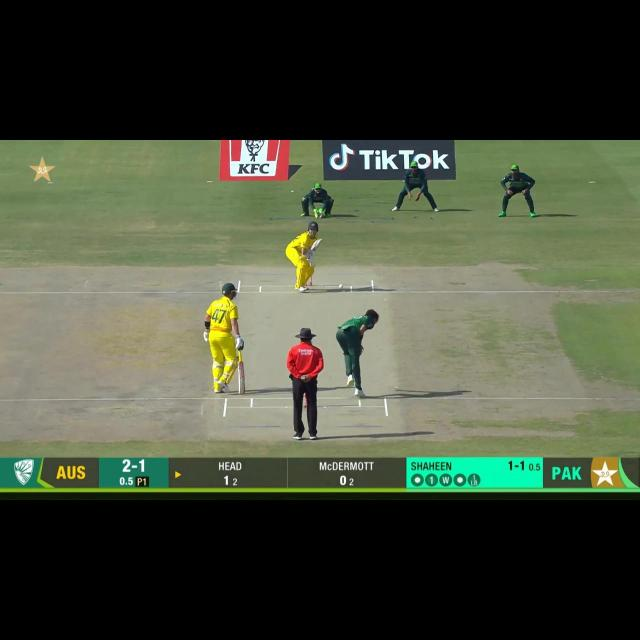bat: (309, 237, 324, 252), (239, 360, 245, 395)
toe: (238, 387, 245, 395), (316, 237, 324, 243)
